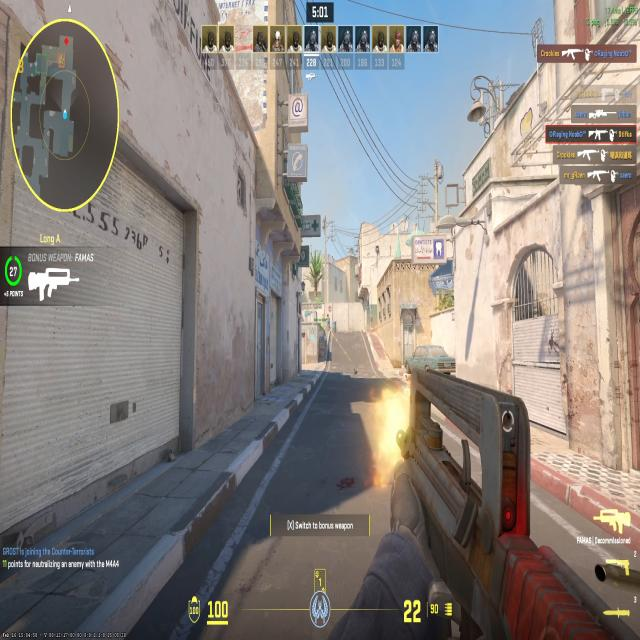player: (326, 313, 331, 328)
